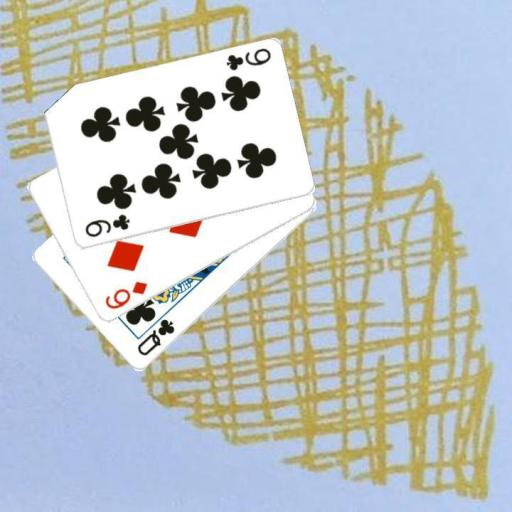card-corner: (134, 316, 176, 358), (102, 278, 148, 312), (81, 211, 132, 240), (222, 45, 272, 72)
